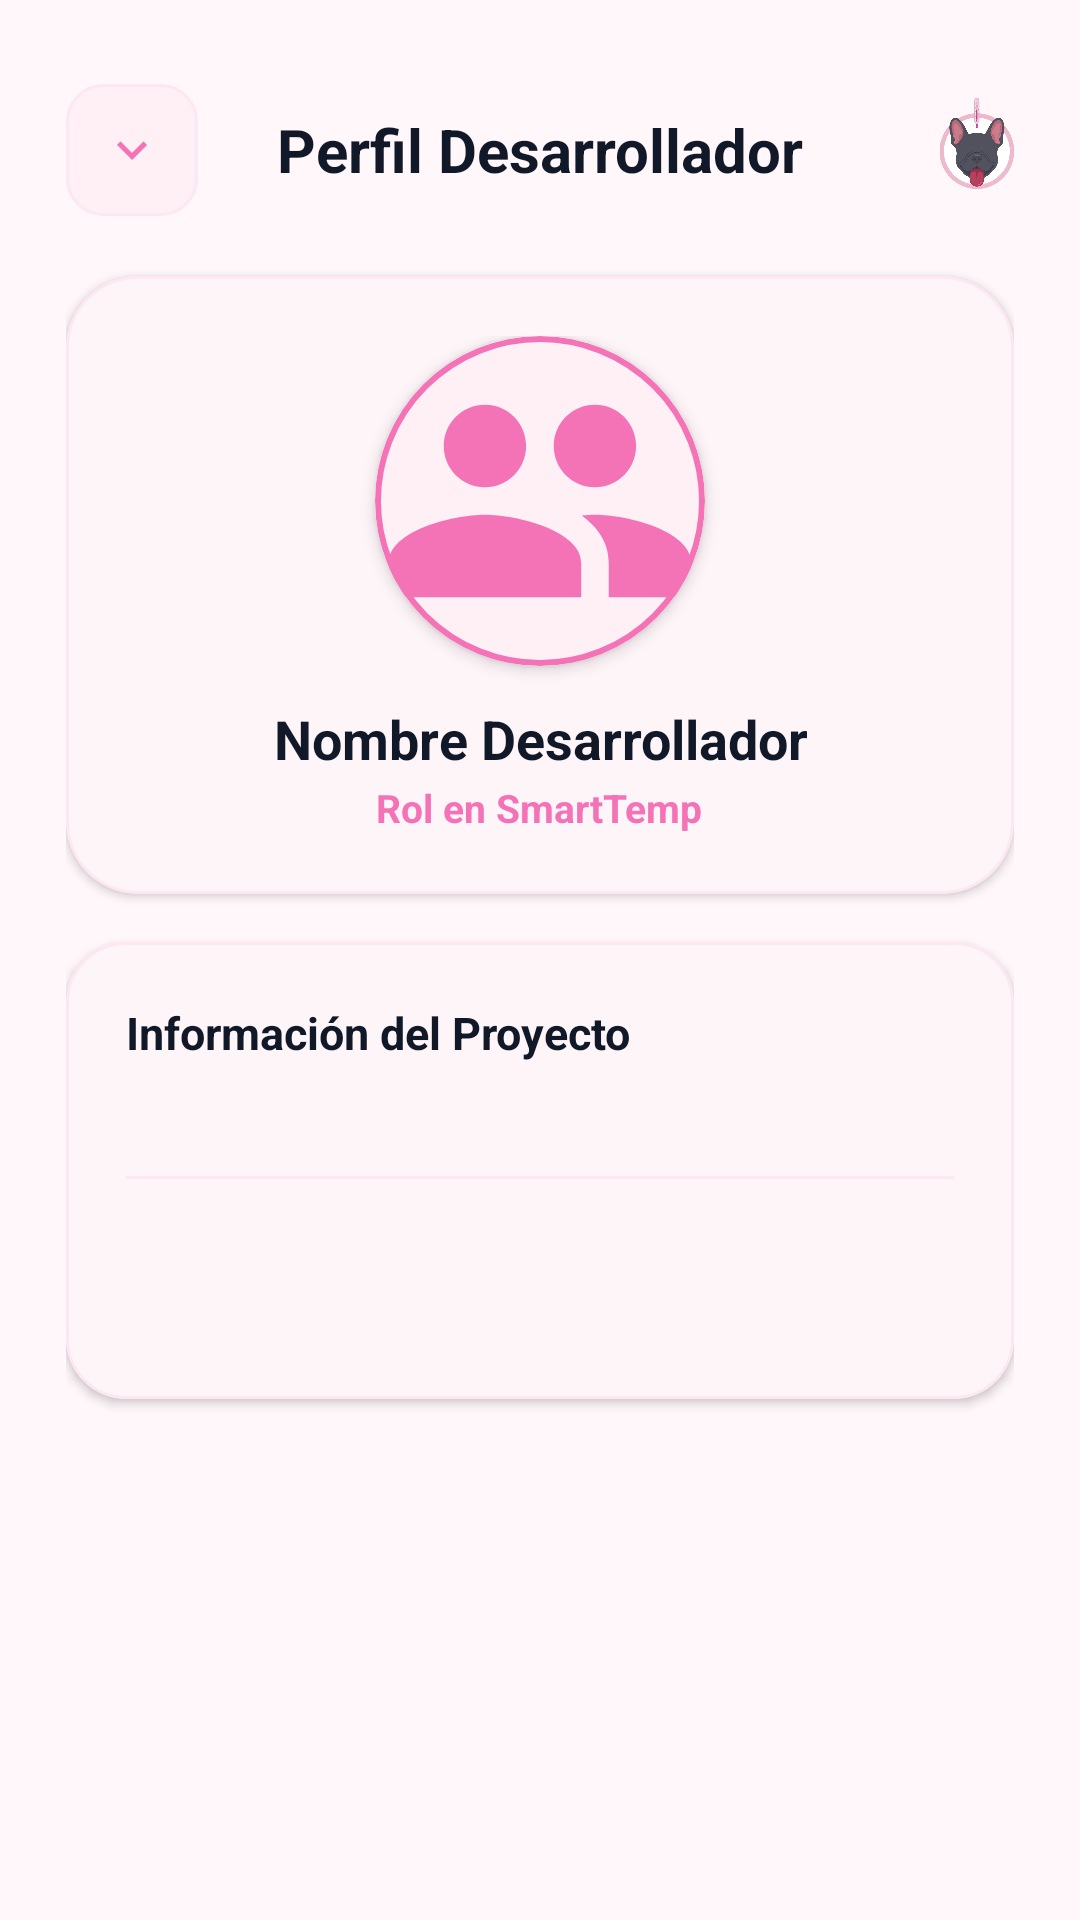

Icons on this 1080 x 1920 Android screen, each with the point to tap as point (x, y):
expand more: point (132, 150)
users: point (540, 501)
